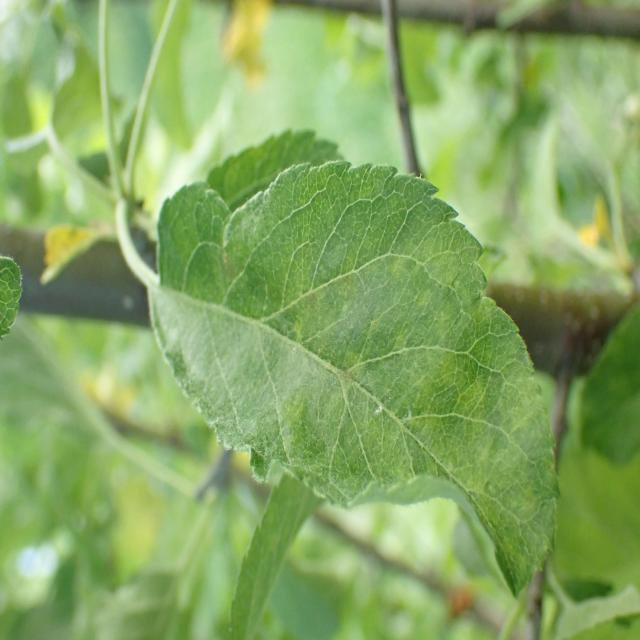scab: (146, 172, 541, 531)
